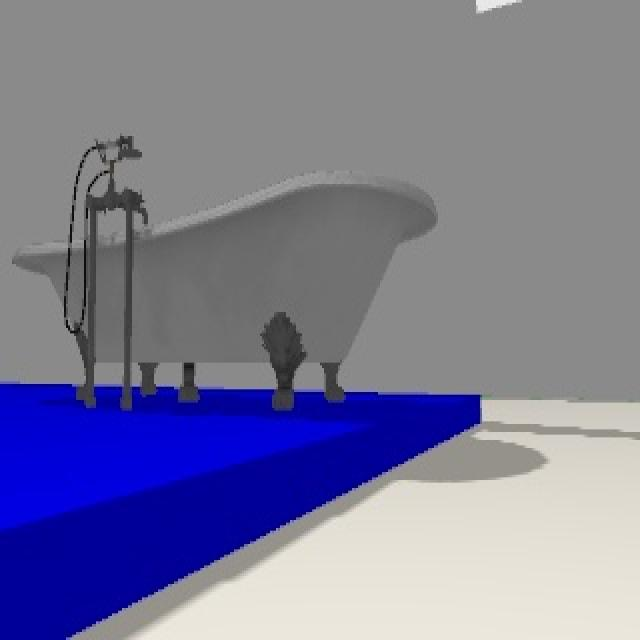bathtub: (11, 139, 440, 415)
